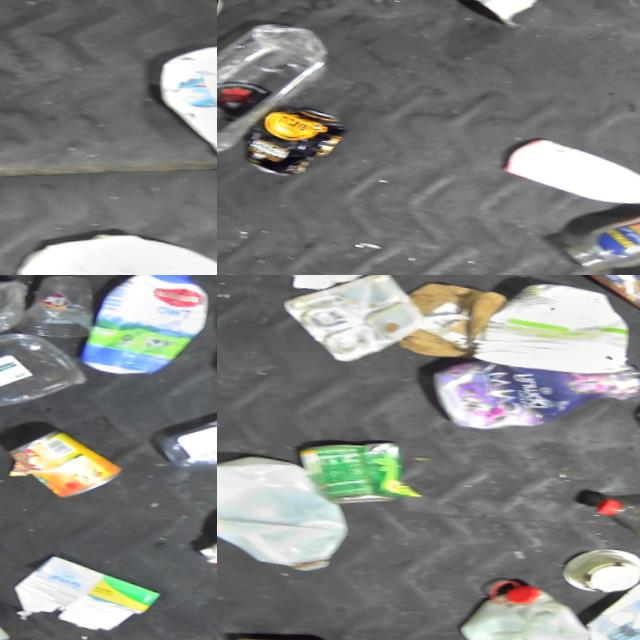can: (285, 429, 435, 524), (12, 426, 138, 507), (247, 104, 355, 185)
milk_jug: (217, 446, 367, 585), (0, 213, 217, 275), (456, 574, 633, 640), (149, 35, 217, 197)
non_white_jug: (413, 344, 640, 455), (91, 275, 217, 386)
plastic_bottle: (217, 11, 339, 156), (573, 493, 640, 567), (163, 398, 217, 480)
